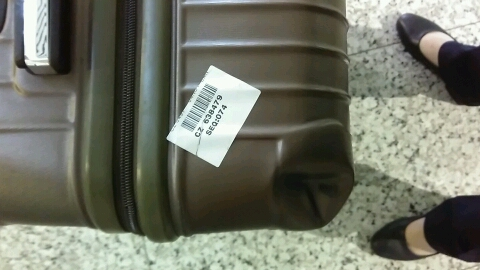rupture: (269, 154, 353, 228)
